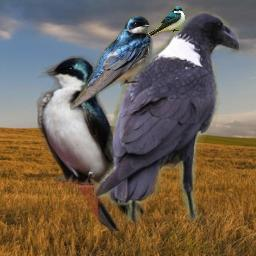Crow: (94, 11, 239, 220)
Swallow: (36, 55, 145, 231), (70, 13, 154, 112), (146, 6, 185, 37)
